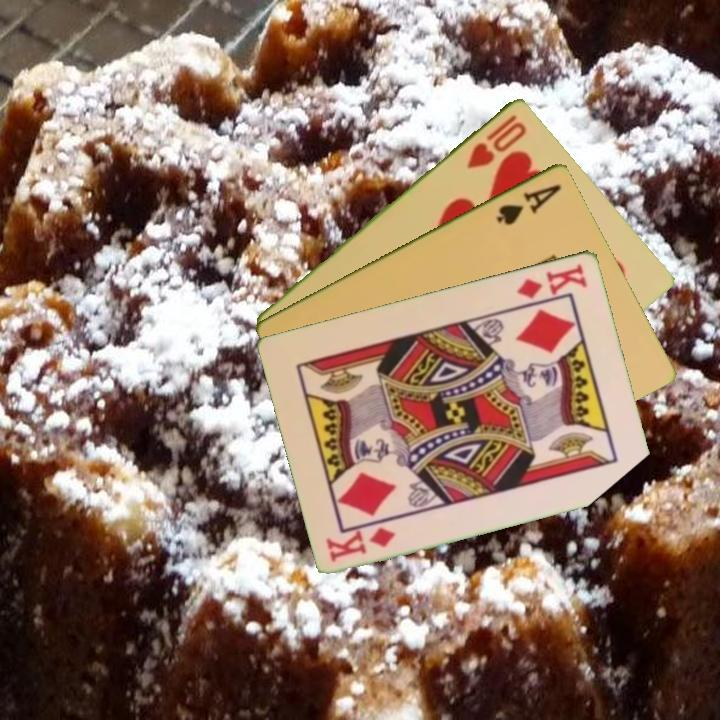10h: (463, 110, 530, 172)
As: (493, 179, 565, 228)
Kd: (513, 260, 590, 301), (323, 523, 399, 564)
